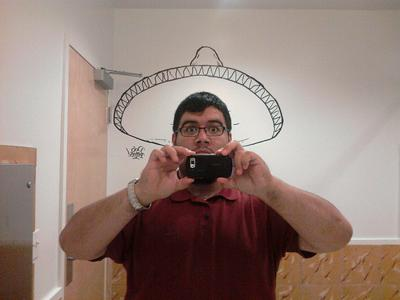person: (58, 92, 354, 298)
